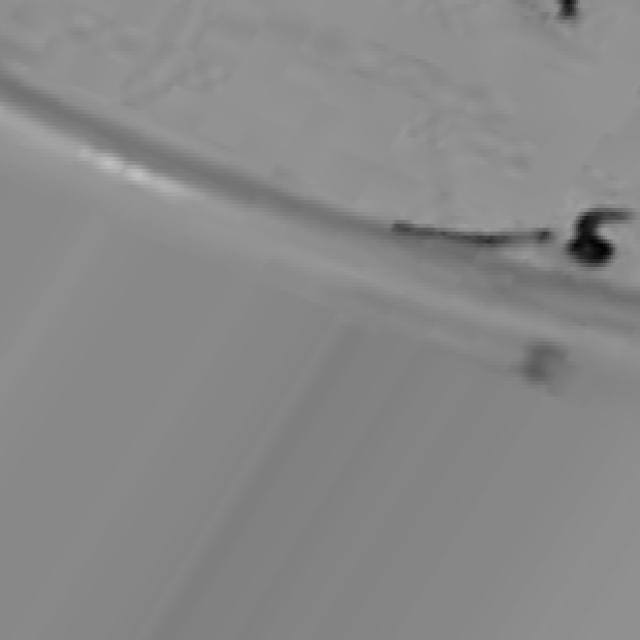larvas: (392, 222, 547, 245), (574, 203, 627, 263)
